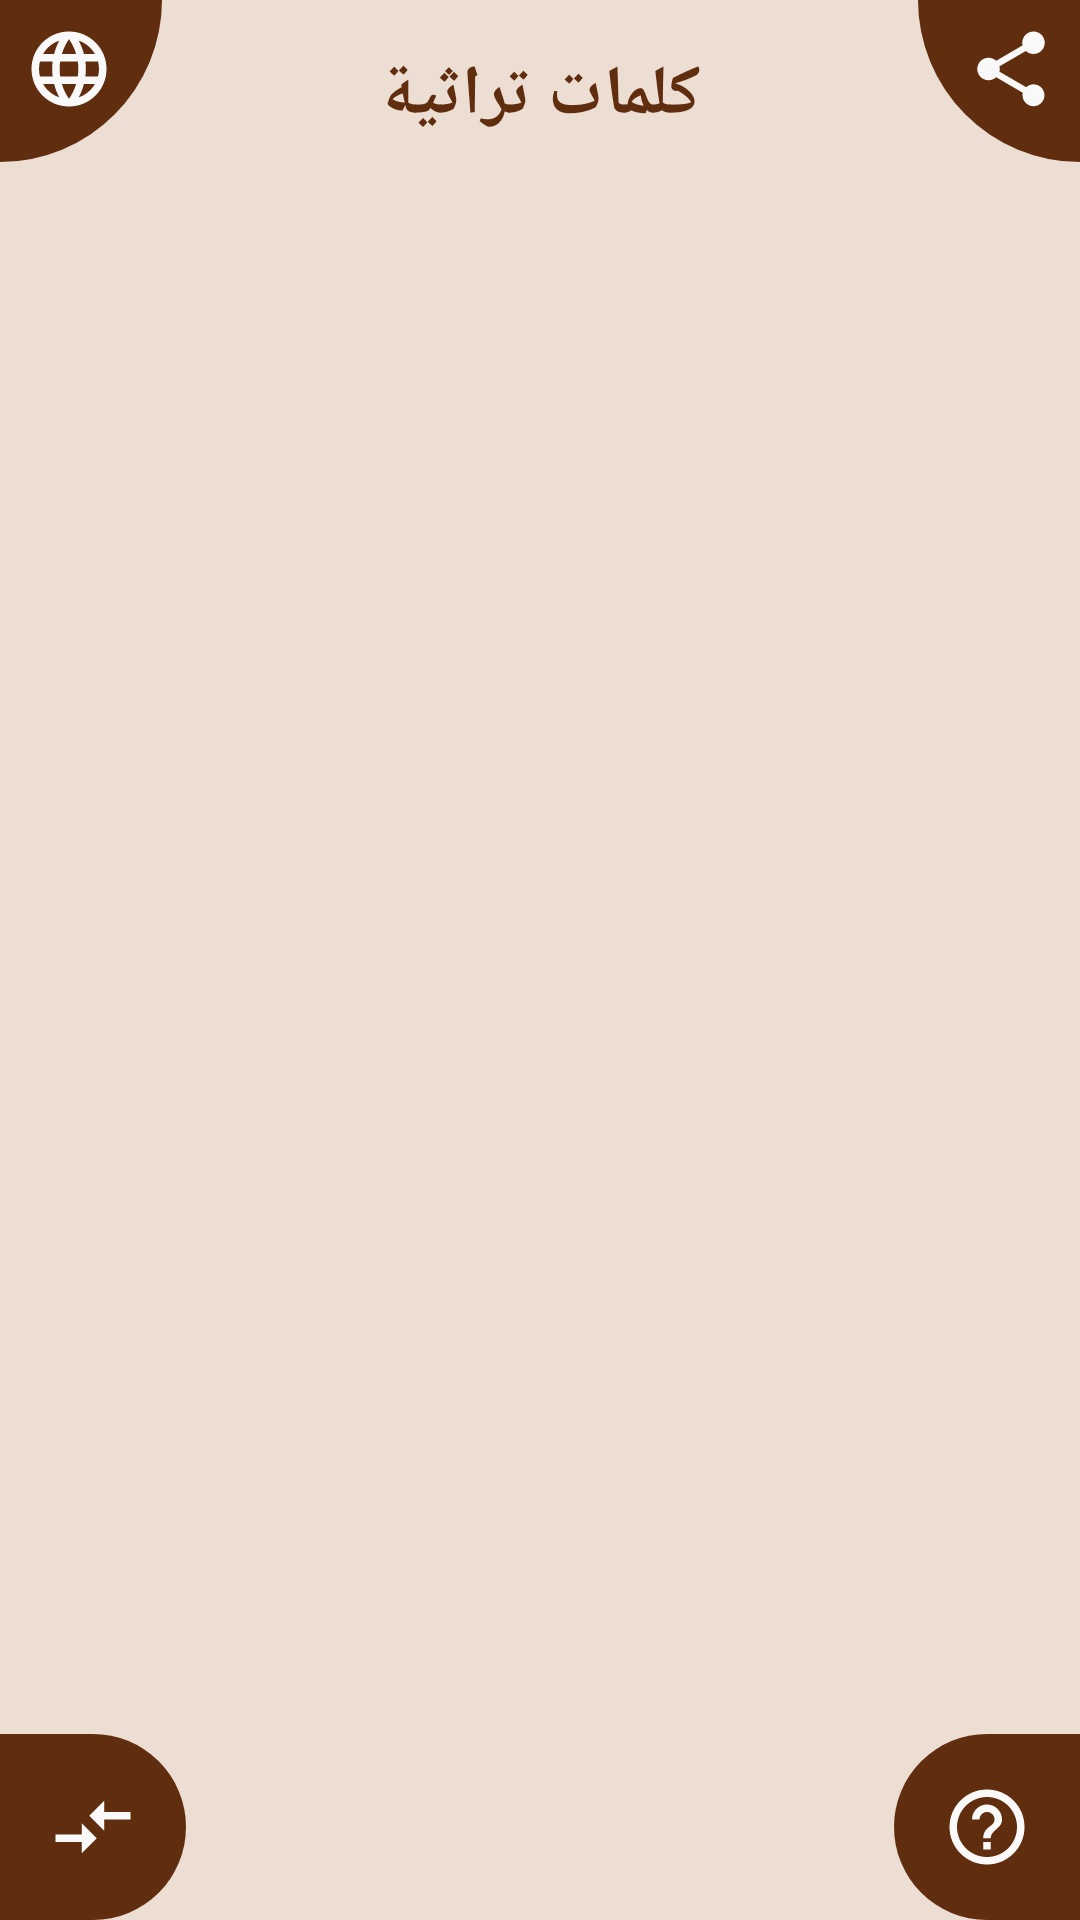

Where to tap for icons on this 1080 x 1920 app screen, as (x=x, y=y):
compare arrows: (x=93, y=1827)
help: (x=987, y=1827)
language: (x=81, y=81)
share: (x=999, y=81)
